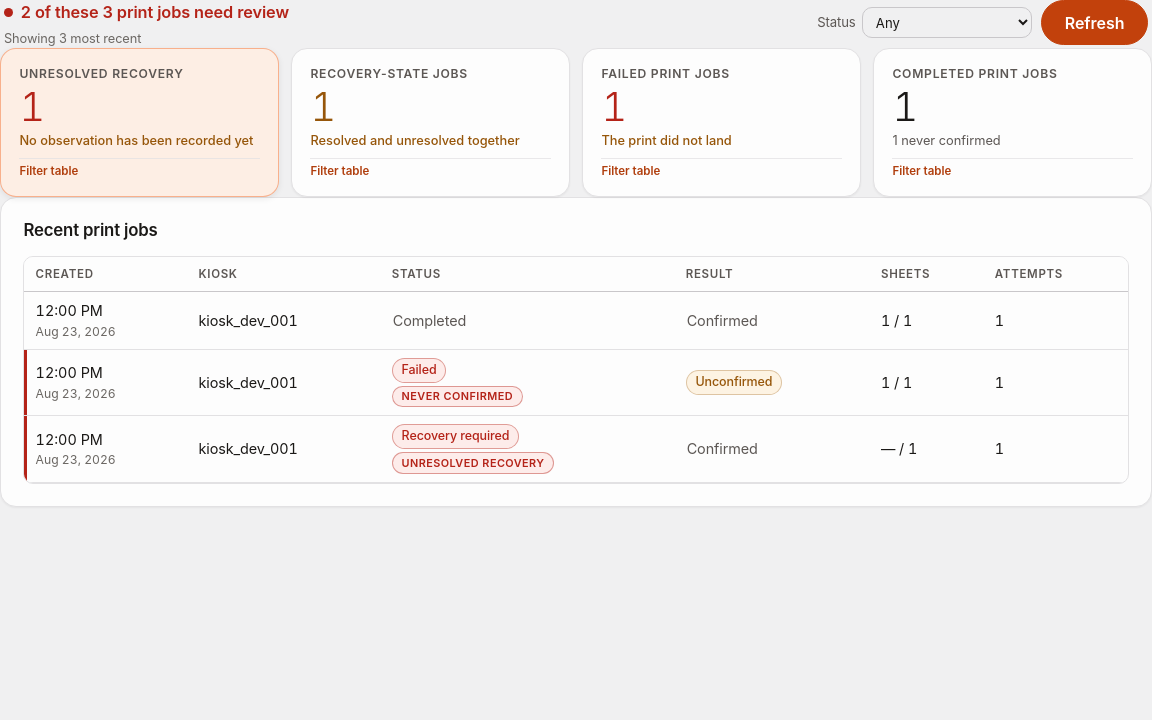
Scenario: Printing › opens a job in a sheet carrying its identifiers, and returns focus on close
Click the button with aria-label "Completed, created".
click(106, 321)  # box x1=36 y1=300 x2=176 y2=341
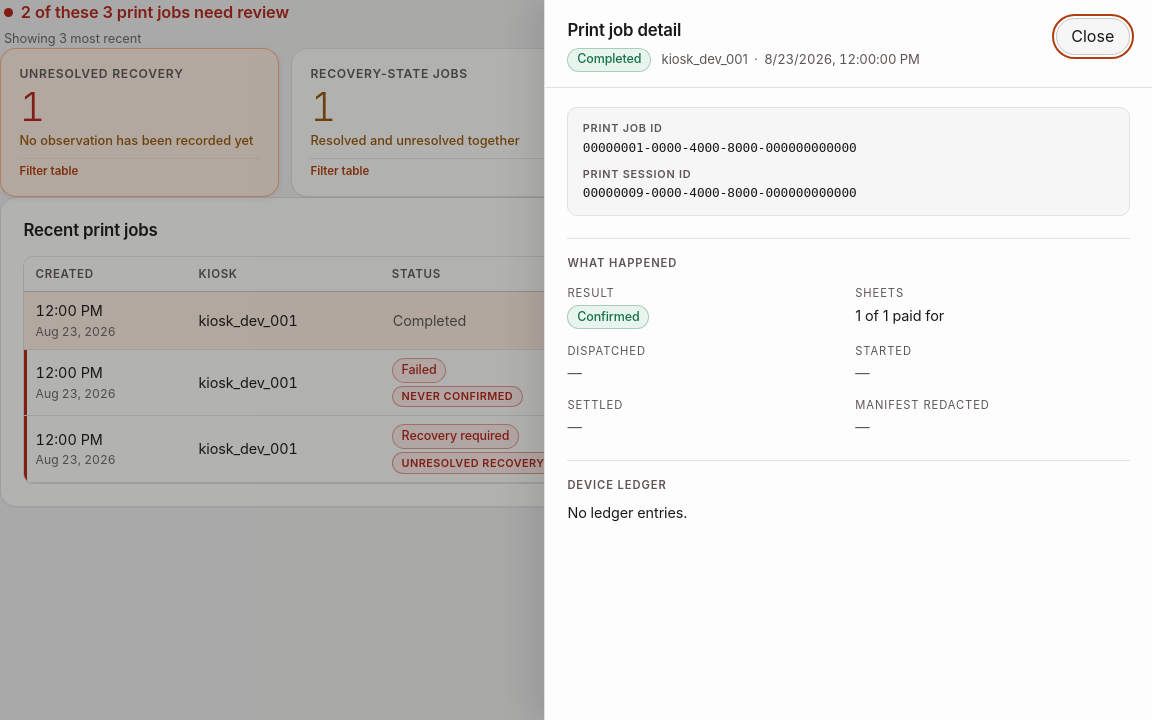
Press Escape
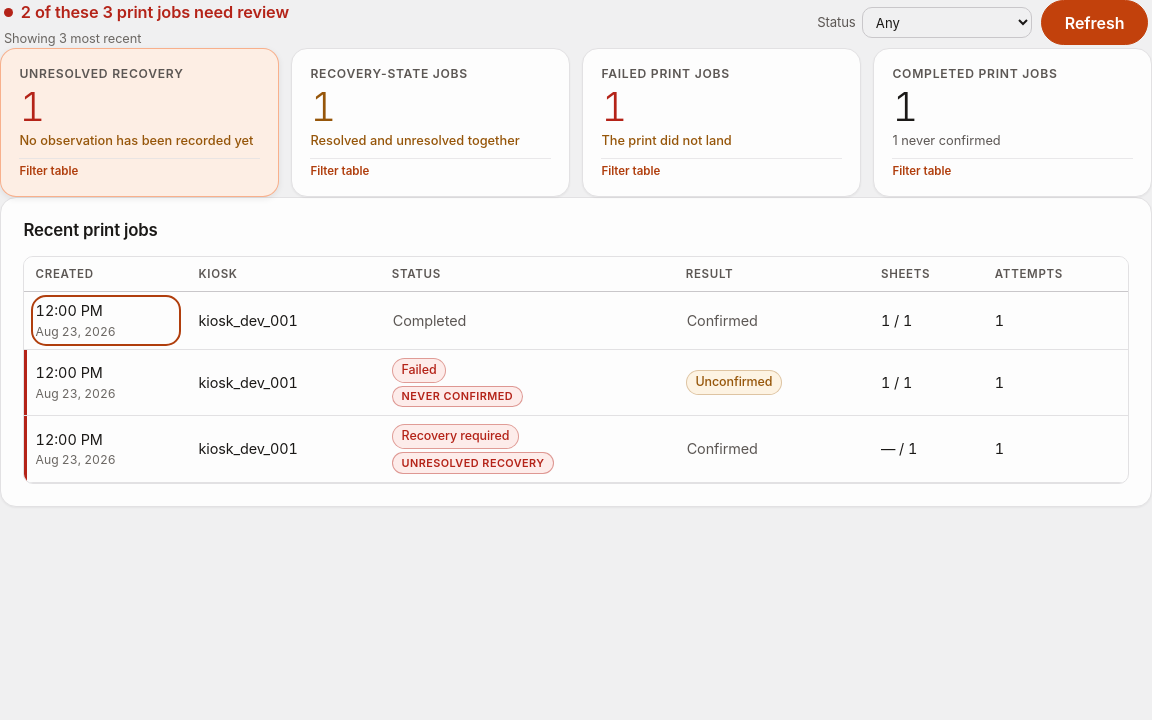
expect the dialog is gone: met
